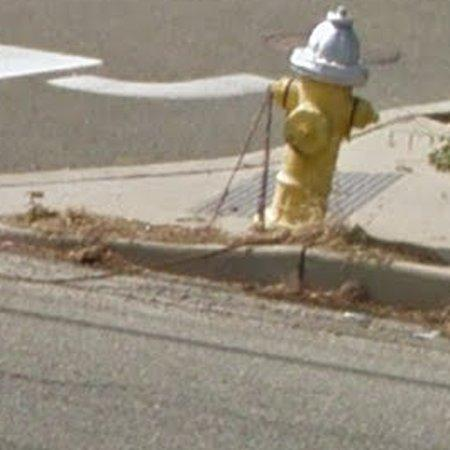a fire hydrant: (271, 6, 379, 225)
